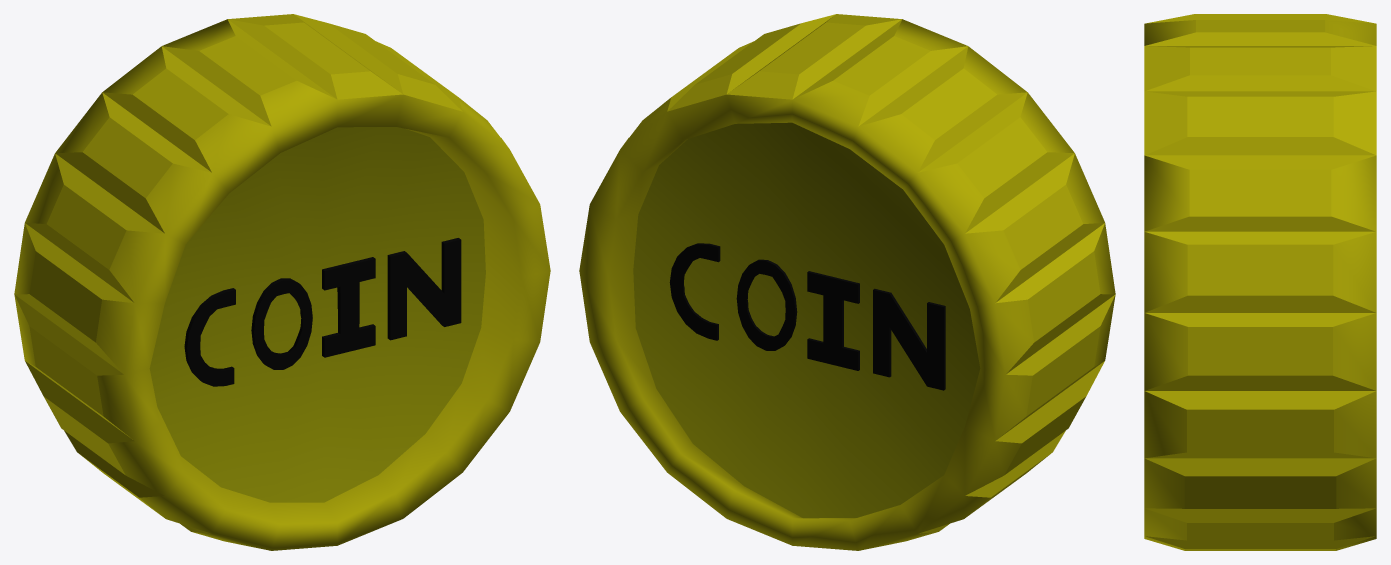
The model's file is coin.fbx.
3 renders of one model, left to right at view 1: azimuth 30°, elevation 25°; view 2: azimuth 150°, elevation 25°; view 3: azimuth 270°, elevation 25°, orthographic. The views are drawn at different scales.
Visible parts, largest first — view 1: coin2; view 2: coin2; view 3: coin2.
Part boxes in pixels (box(x1,y1,x2,y2)): coin2: box(14, 14, 550, 550); coin2: box(579, 14, 1115, 550); coin2: box(1144, 14, 1376, 550).
Size of the model in its own units: 1.04 by 1.03 by 0.4481.
